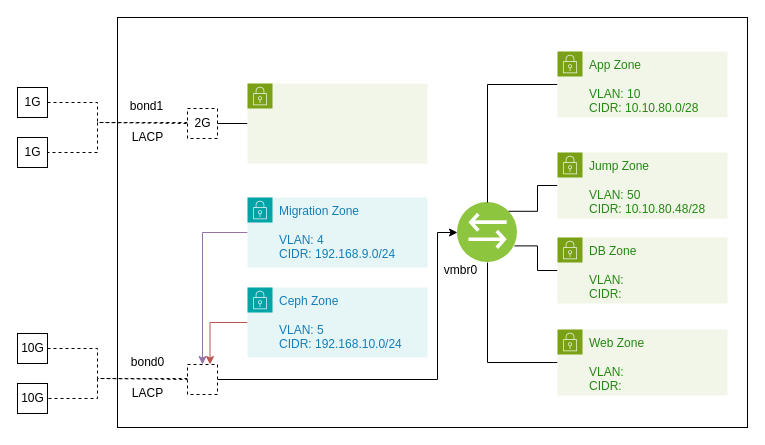
The diagram is 765 pixels wide and 445 high, and some of its shapes have lost their labels. Here are the shapes that lost their labels. From the top down, the centre of each, then its label:
point 337,123: Management Network Gateway: 10.10.80.65 CIDR: 10.10.80.64/28
point 202,379: 20G
